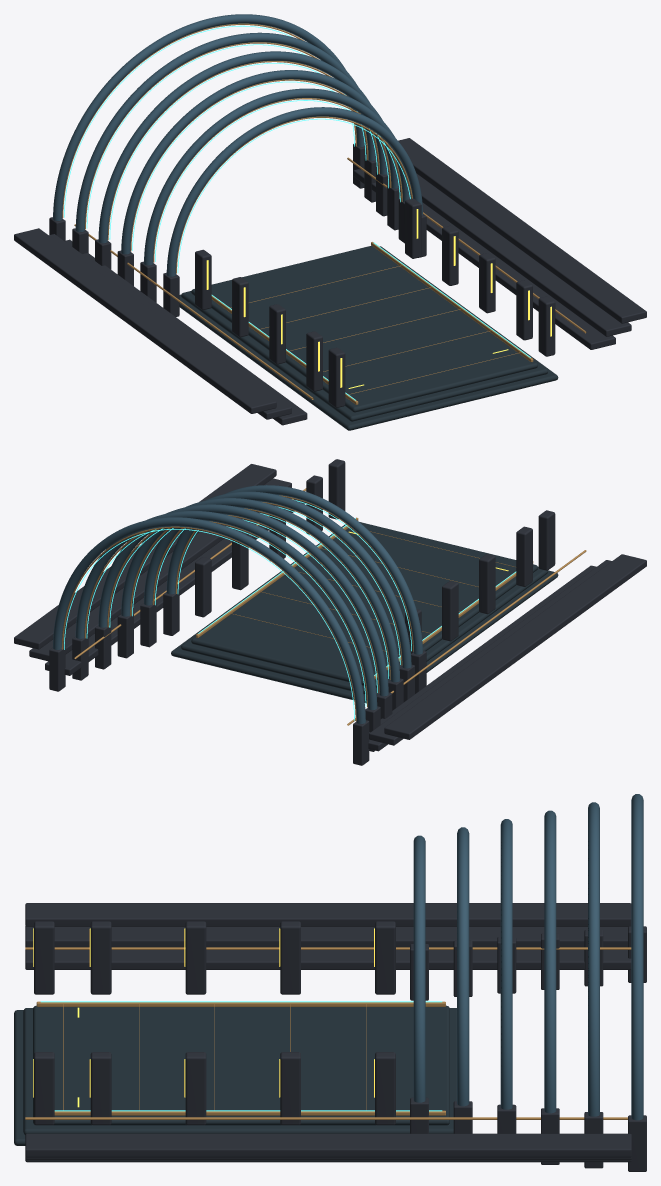
The model's file is arena-premium.glb.
3 renders of one model, top to bottom at view 1: azimuth 30°, elevation 25°; view 2: azimuth 150°, elevation 25°; view 3: azimuth 270°, elevation 25°, orthographic. The views are drawn at different scales.
Parts seen in each view (by area): view 1: Stepped arena dais, Gallery terrace.002, Gallery terrace.005, Gallery terrace.004, Monumental arena arch.015, Stepped arena dais.002, Monumental arena arch.012, Monumental arena arch.009, Monumental arena arch, Monumental arena arch.006, Monumental arena arch.003, Stepped arena dais.001 (+18 smaller); view 2: Stepped arena dais, Gallery terrace.002, Monumental arena arch.015, Monumental arena arch.012, Monumental arena arch.009, Monumental arena arch.006, Monumental arena arch.003, Gallery terrace.005, Monumental arena arch, Stepped arena dais.002, Gallery terrace.004, Stepped arena dais.001 (+30 smaller); view 3: Stepped arena dais, Gallery terrace.005, Gallery terrace.002, Gallery terrace.001, Gallery terrace, Stepped arena dais.001, Monumental arena arch.015, Monumental arena arch.009, Monumental arena arch.012, Monumental arena arch.006, Monumental arena arch.003, Monumental arena arch (+23 smaller).
Part boxes in pixels (box(x1,y1,x2,y2)): Stepped arena dais: box(191, 245, 537, 412); Gallery terrace.002: box(14, 228, 276, 413); Gallery terrace.005: box(398, 138, 646, 323); Gallery terrace.004: box(388, 171, 631, 336); Monumental arena arch.015: box(53, 14, 365, 220); Stepped arena dais.002: box(179, 246, 558, 430); Monumental arena arch.012: box(75, 32, 377, 231); Monumental arena arch.009: box(98, 51, 388, 243); Monumental arena arch: box(166, 107, 422, 276); Monumental arena arch.006: box(121, 70, 399, 254); Monumental arena arch.003: box(144, 88, 411, 265); Stepped arena dais.001: box(181, 291, 547, 421); Stepped arena dais: box(191, 522, 537, 687); Gallery terrace.002: box(384, 554, 646, 739); Monumental arena arch.015: box(53, 517, 365, 723); Monumental arena arch.012: box(75, 511, 377, 710); Monumental arena arch.009: box(98, 504, 388, 696); Monumental arena arch.006: box(121, 498, 399, 682); Monumental arena arch.003: box(144, 491, 411, 668); Gallery terrace.005: box(14, 464, 276, 649); Monumental arena arch: box(166, 485, 422, 654); Stepped arena dais.002: box(171, 524, 558, 703); Gallery terrace.004: box(29, 478, 291, 661); Stepped arena dais.001: box(181, 566, 547, 695); Stepped arena dais: box(33, 1005, 449, 1125); Gallery terrace.005: box(25, 1133, 631, 1157); Gallery terrace.002: box(25, 903, 631, 926); Gallery terrace.001: box(25, 926, 628, 947); Gallery terrace: box(25, 950, 631, 969); Stepped arena dais.001: box(23, 1008, 456, 1134); Monumental arena arch.015: box(631, 794, 643, 1120); Monumental arena arch.009: box(544, 810, 556, 1113); Monumental arena arch.012: box(588, 802, 599, 1116); Monumental arena arch.006: box(500, 819, 512, 1109); Monumental arena arch.003: box(457, 827, 469, 1106); Monumental arena arch: box(413, 835, 425, 1102).
Bounding box in the file's own units: 15.4 × 7.74 × 16.7.
